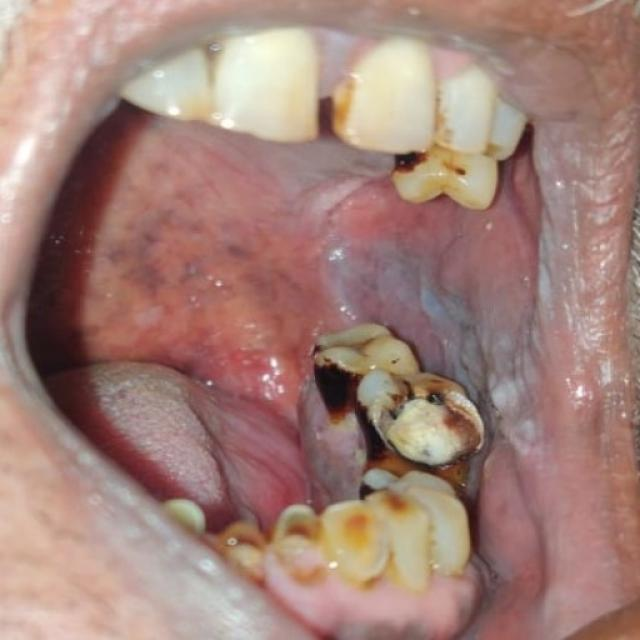leukoplakia-detection: (310, 169, 576, 460)
processing_area: (92, 115, 639, 639)
